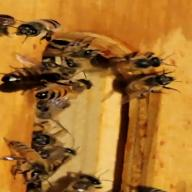Bee: (4, 134, 56, 172), (122, 67, 178, 99), (38, 74, 89, 104), (11, 16, 59, 42)
